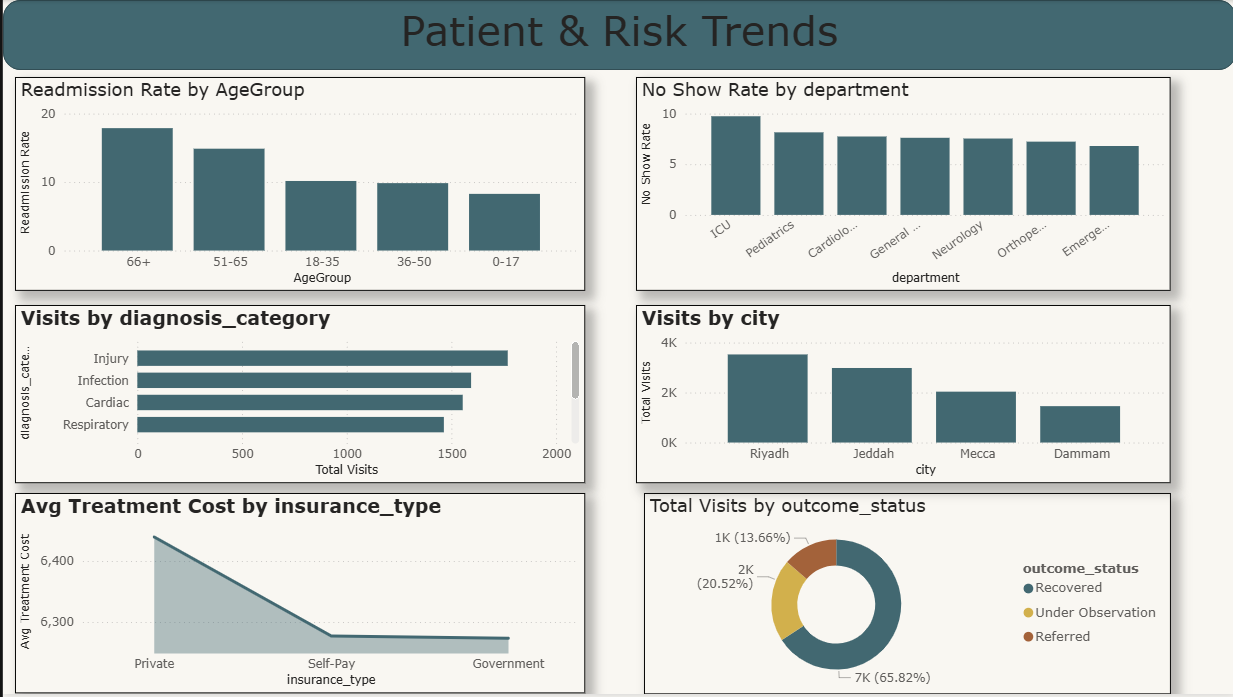

The dashboard page shown, as its layout file describes it:
{"tool":"powerbi","page":{"name":"Page 3","canvas":[1280,720],"ordinal":2},"visuals":[{"type":"shape","box":[0,0,1280,72.7],"z":0},{"type":"textbox","box":[0,0,1280,72.7],"z":1000},{"type":"clusteredColumnChart","fields":{"Category":["hospital_data.AgeGroup"],"Y":["Key Measures.Readmission Rate"]},"box":[12.5,79.9,591.7,222.2],"z":2000},{"type":"areaChart","fields":{"Category":["hospital_data.diagnosis_category"],"Y":["Key Measures.Total Visits"]},"box":[12.5,316.6,591.7,184.8],"z":3000},{"type":"clusteredColumnChart","fields":{"Category":["hospital_data.department"],"Y":["Key Measures.No Show Rate"]},"box":[657.1,79.9,555.4,222.2],"z":4000},{"type":"areaChart","fields":{"Category":["hospital_data.insurance_type"],"Y":["Key Measures.Avg Treatment Cost"]},"box":[12.5,511.8,591.7,207.6],"z":5000},{"type":"donutChart","fields":{"Category":["hospital_data.outcome_status"],"Y":["Key Measures.Total Visits"]},"box":[665.4,511.8,547.1,208.7],"z":5001},{"type":"stackedAreaChart","fields":{"Category":["hospital_data.city"],"Y":["Key Measures.Total Visits"]},"box":[657.1,316.6,555.4,184.8],"z":5002}]}

Visuals, with their boxes in screenshot pixels (x1, y1, x2, y2), scaled from the page's 1280x720 canvas onto the 1233x697 screenshot:
shape: x1=0, y1=0, x2=1232, y2=70
textbox: x1=0, y1=0, x2=1232, y2=70
clusteredColumnChart - hospital_data.AgeGroup x Key Measures.Readmission Rate: x1=12, y1=77, x2=582, y2=292
areaChart - hospital_data.diagnosis_category x Key Measures.Total Visits: x1=12, y1=306, x2=582, y2=485
clusteredColumnChart - hospital_data.department x Key Measures.No Show Rate: x1=633, y1=77, x2=1168, y2=292
areaChart - hospital_data.insurance_type x Key Measures.Avg Treatment Cost: x1=12, y1=495, x2=582, y2=696
donutChart - hospital_data.outcome_status x Key Measures.Total Visits: x1=641, y1=495, x2=1168, y2=696
stackedAreaChart - hospital_data.city x Key Measures.Total Visits: x1=633, y1=306, x2=1168, y2=485
